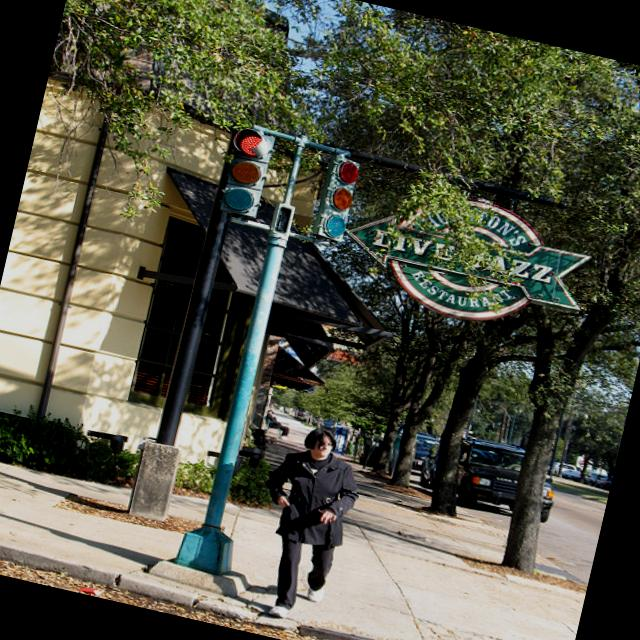Vehicle: (414, 426, 563, 526), (408, 432, 438, 472), (550, 460, 578, 480), (560, 468, 582, 482)
